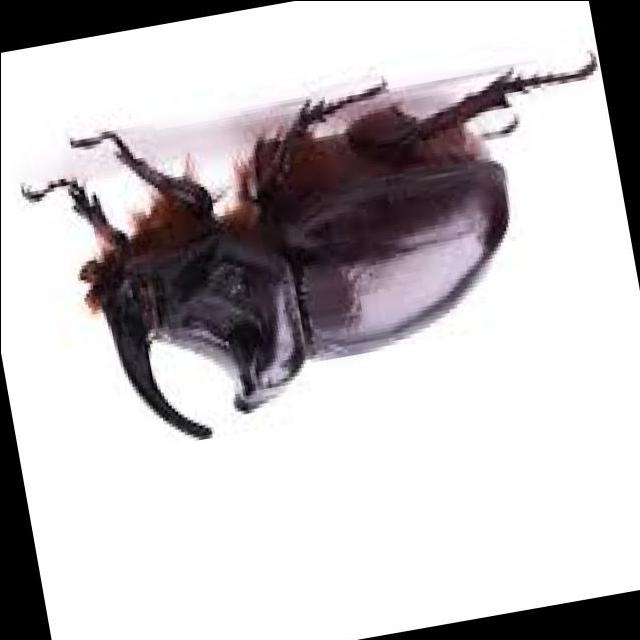Rhino-beetle: (24, 39, 594, 437)
